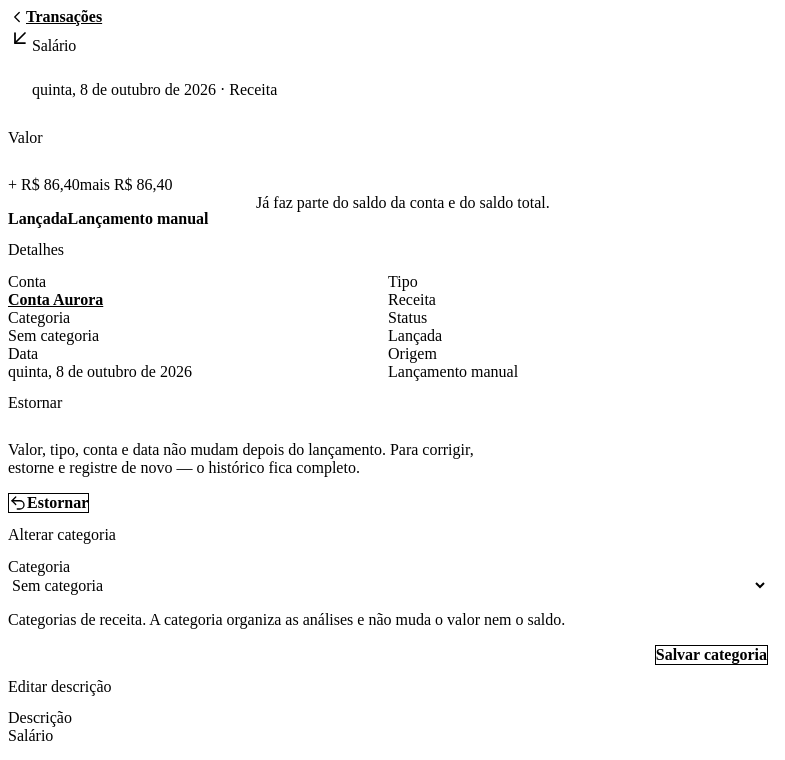
Test case: /transactions/{id} — detalhe e ações › receita oferece categorias de receita; recusa do backend vira erro no campo
Select "Salário" in the dropdown labelled "Categoria" at coordinates (388, 585), box [8, 576, 768, 595]
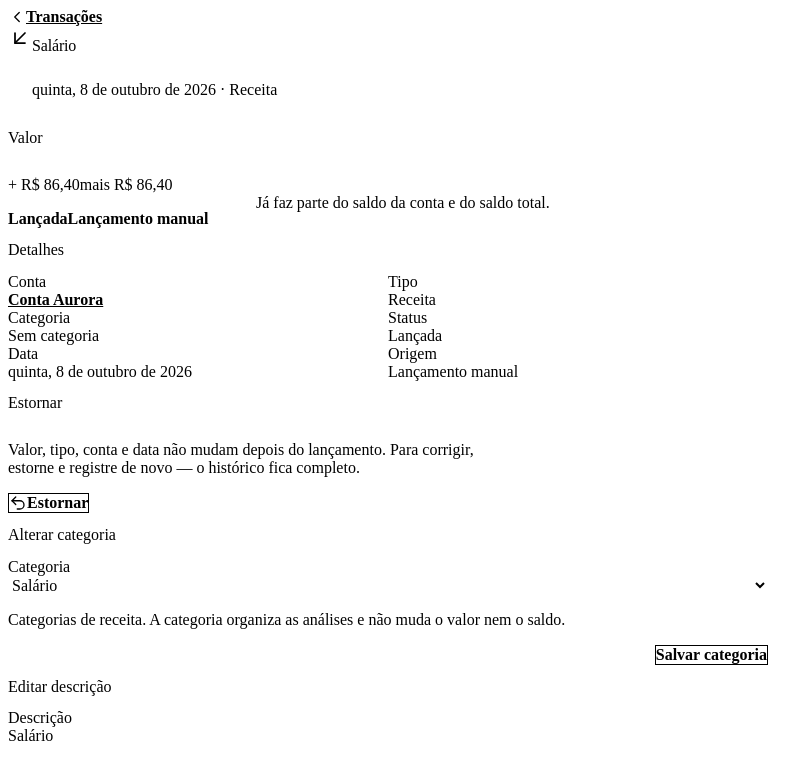
Click the button "Salvar categoria" at coordinates (711, 655), box [655, 645, 768, 665]
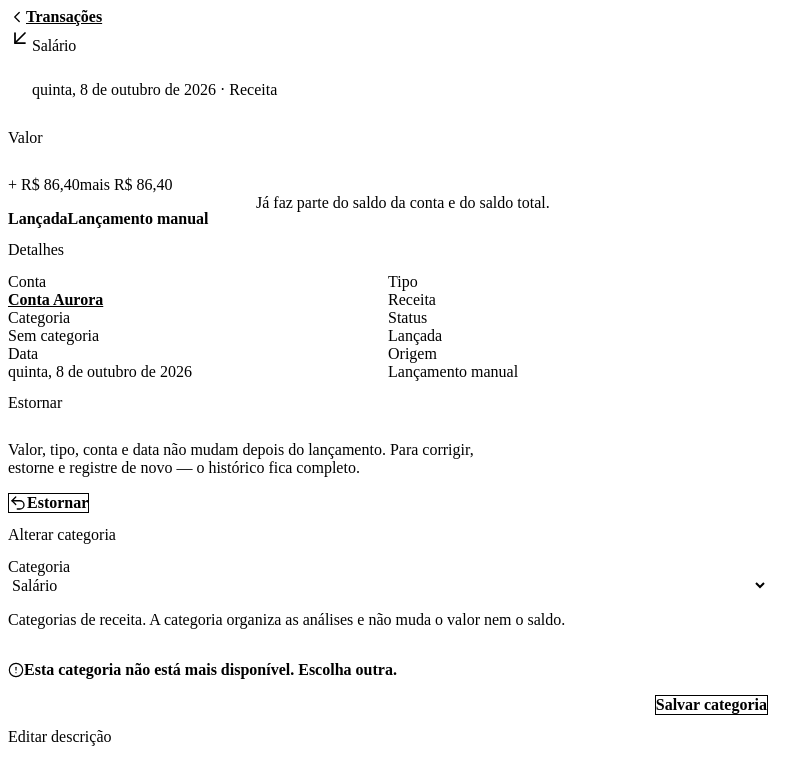
Expected: the text "Esta categoria não está mais disponível. Escolha outra." is shown, [24, 661, 397, 679]
